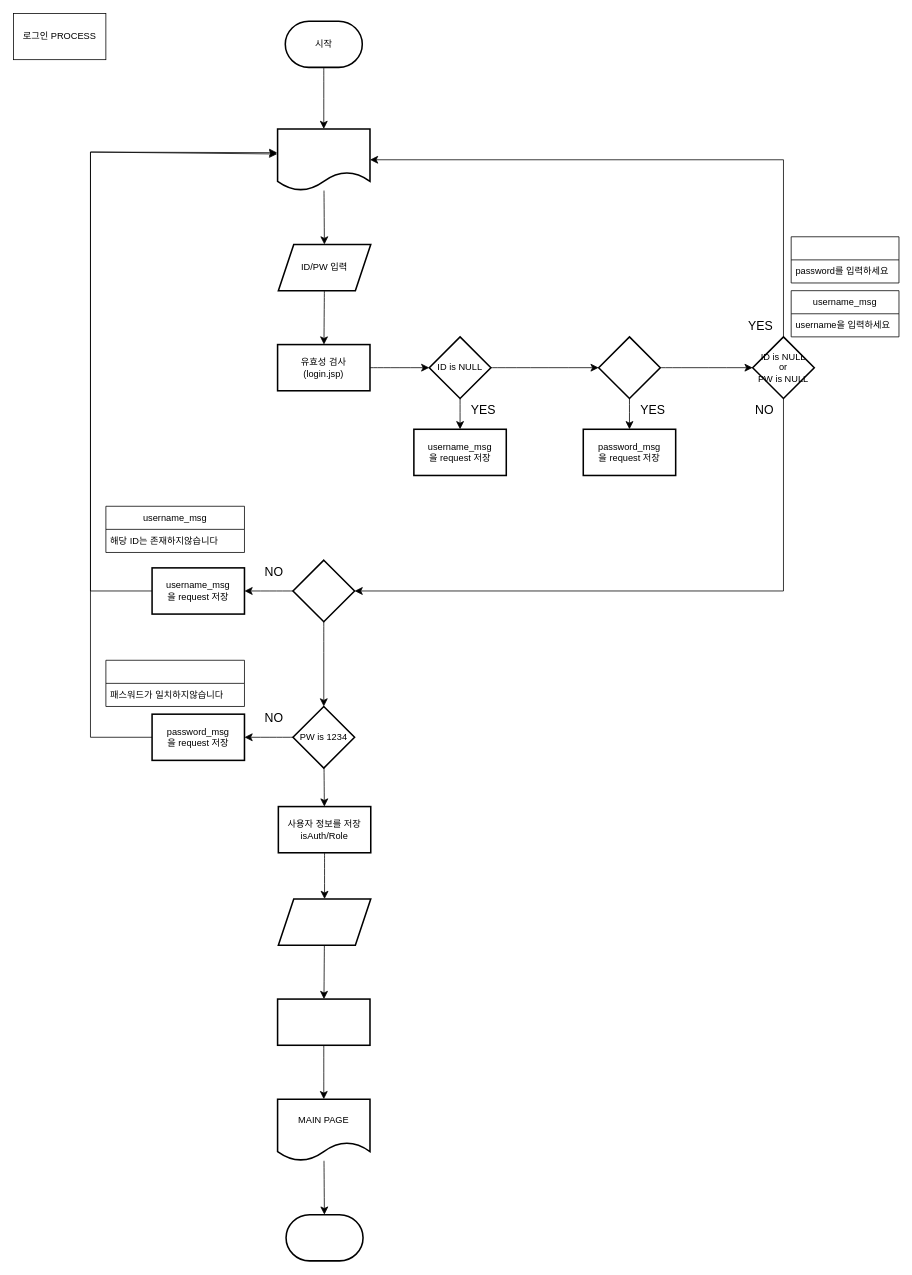
Image size: 912x1275. Some labels were removed from this diagram. The box of each missing label's shape, as (x1, y1, x2, y2) in pixels:
ID is admin: (292, 559, 355, 622)
MAIN PAGE 이동 출력: (277, 898, 371, 946)
MAIN PAGE로 이동: (276, 998, 370, 1046)
password_mag: (790, 236, 899, 283)
password_msg: (105, 660, 244, 706)
PW is NULL: (598, 336, 661, 399)
로그인 폼 (login_form.jsp): (276, 128, 370, 191)
종료: (285, 1214, 363, 1261)
